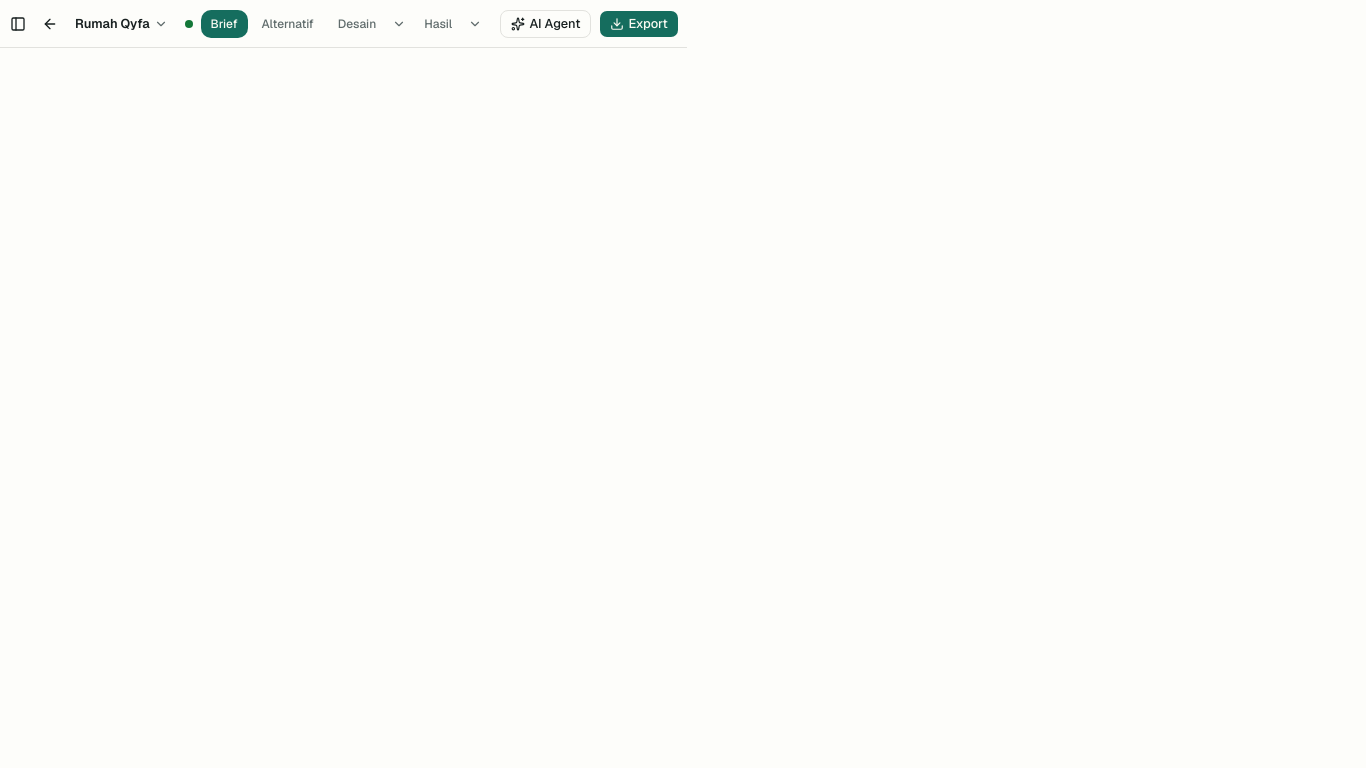
Test: ProjectBar — name dropdown (rename/bagikan/⌘K) › opens the rename dialog from the name dropdown
The width and height of the screenshot is (1366, 768).
Press the mouse on the button with test id "project-name-menu-trigger" at [121, 24], box [68, 10, 175, 38]
Click the button with test id "project-name-menu-trigger" at [121, 24], box [68, 10, 175, 38]
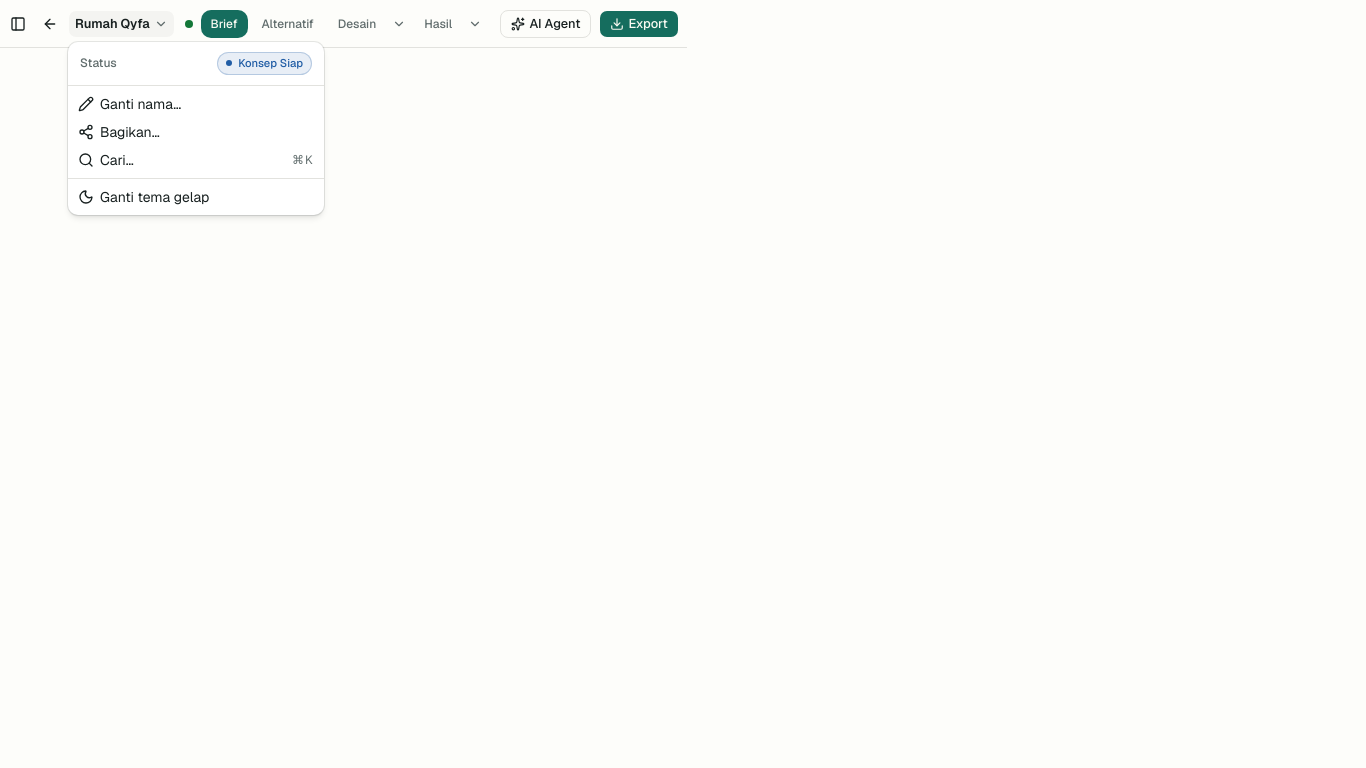
Click the menu item "Ganti nama…" at [130, 104], box [78, 95, 181, 113]
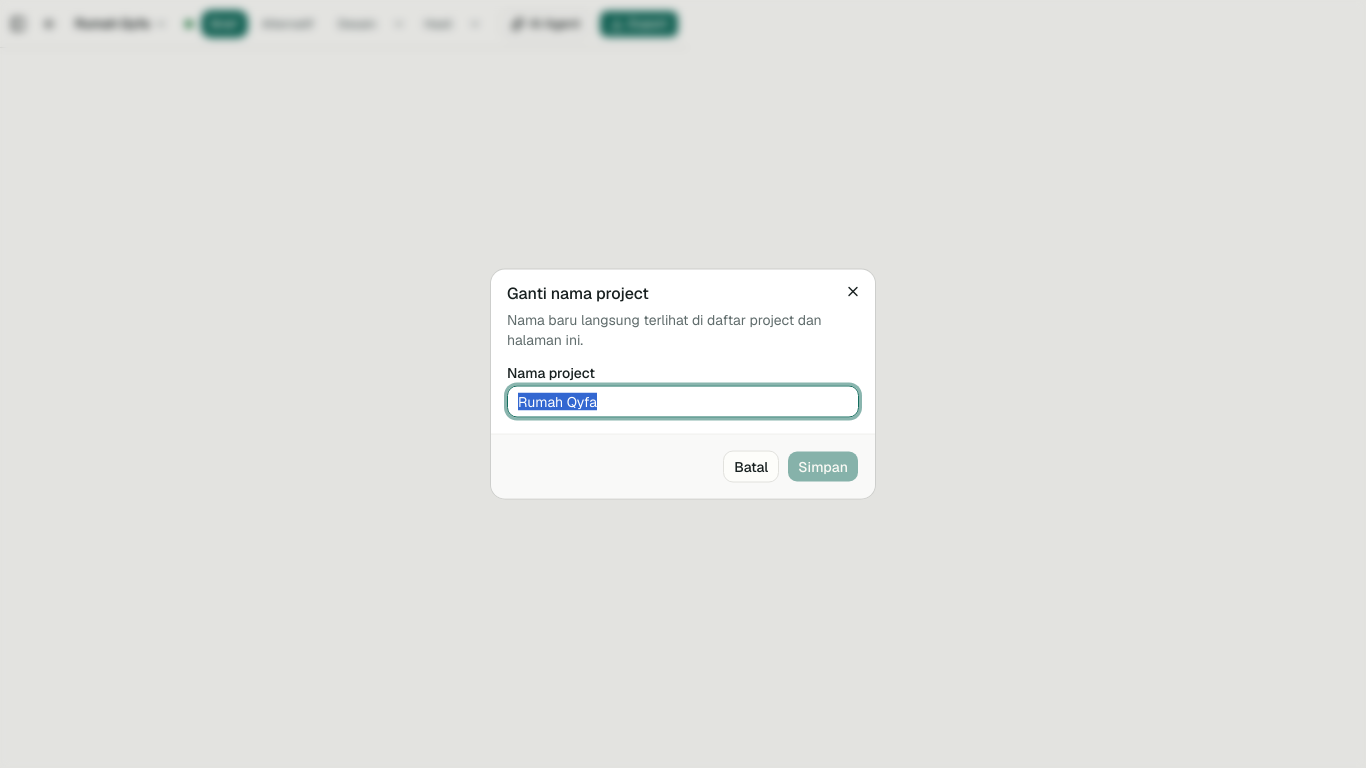
Check: the heading "Ganti nama project" is shown, box [507, 282, 649, 304]
Check: the field showing "Rumah Qyfa" is shown, box [507, 386, 859, 418]
